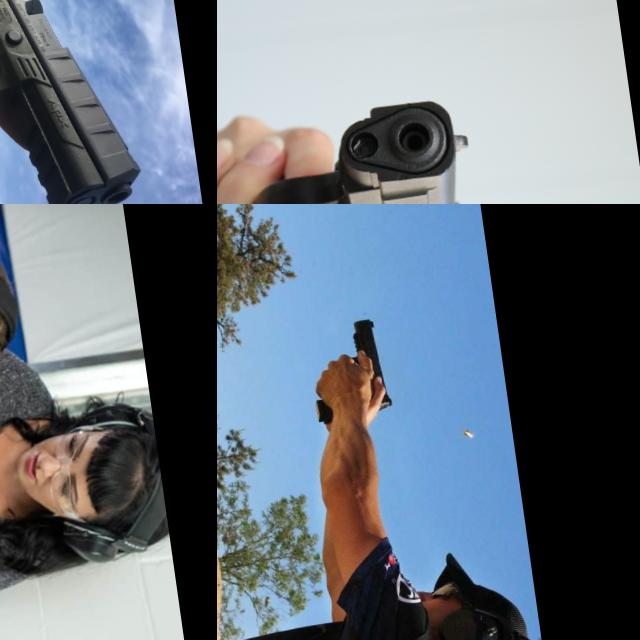handgun: (0, 0, 148, 204), (233, 91, 490, 204), (343, 316, 395, 416), (0, 530, 44, 640)
